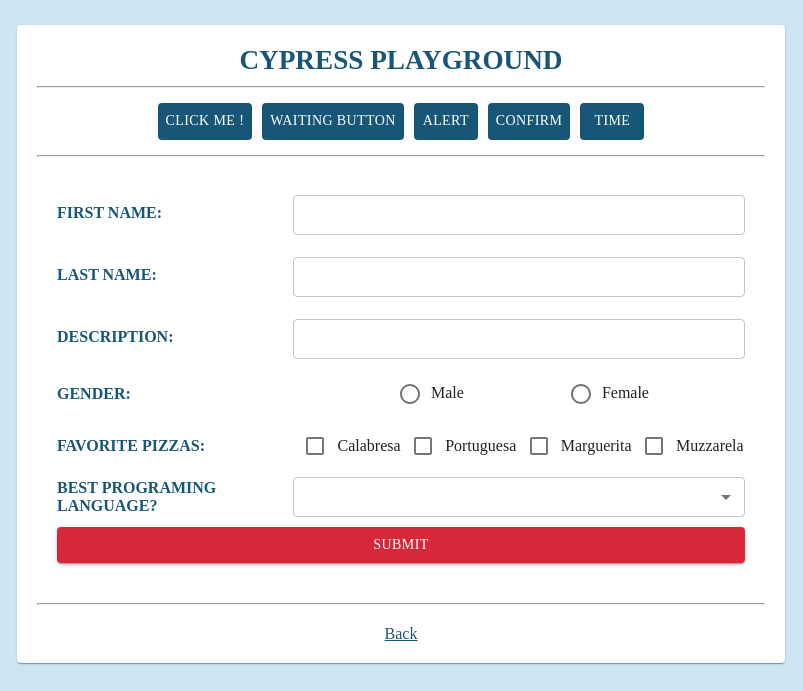
Test case: Text Elements › links
The width and height of the screenshot is (803, 691).
Expected: the element with id "cy-back-text" does not show "I'm Back !"
Click the link "Back" at (402, 634), box [385,625,418,643]
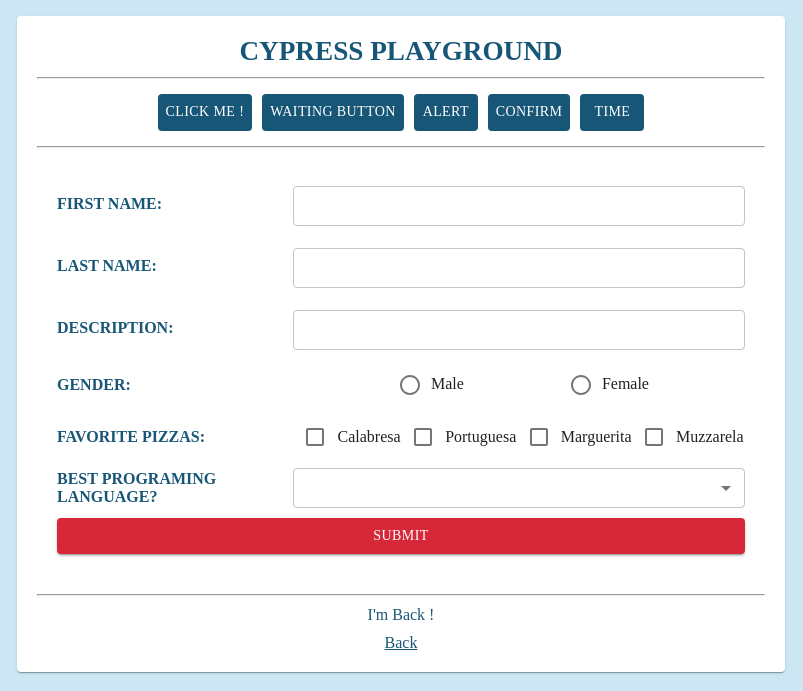
Now the text with id "cy-back-text" reads "I'm Back !", box [368,606,435,624]
